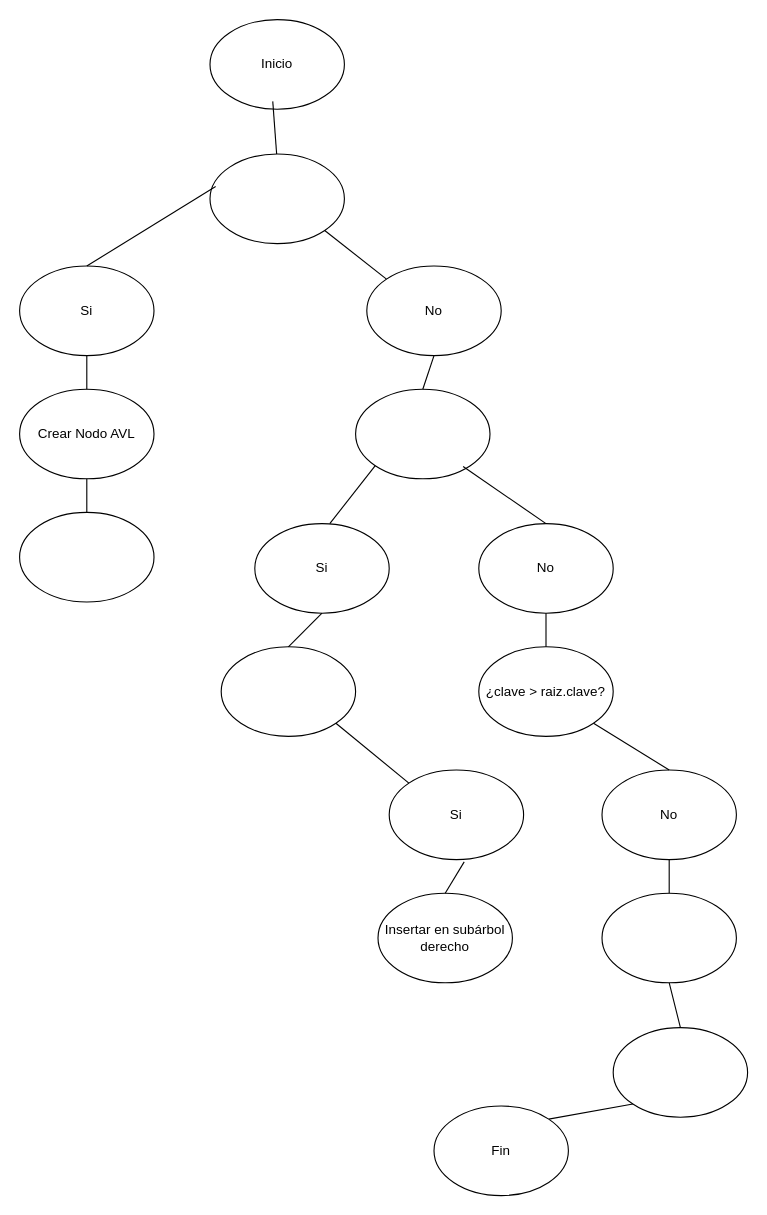
The diagram is 767 pixels wide and 1215 high, and some of its shapes have lost their labels. Here are the shapes that lost their labels. From the top down, the box of each, then its label:
(209, 153, 344, 244): ¿raiz == nil?
(354, 388, 490, 479): ¿clave < raiz.clave?
(18, 511, 154, 602): Retornar nodo
(220, 646, 356, 736): Insertar en subárbol izquierdo
(601, 892, 736, 983): Agregar película a datos
(612, 1026, 748, 1117): retornar raiz
